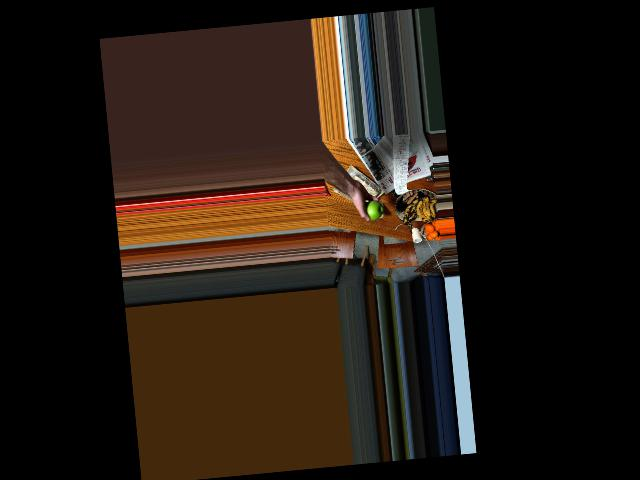apple: (359, 197, 384, 224)
